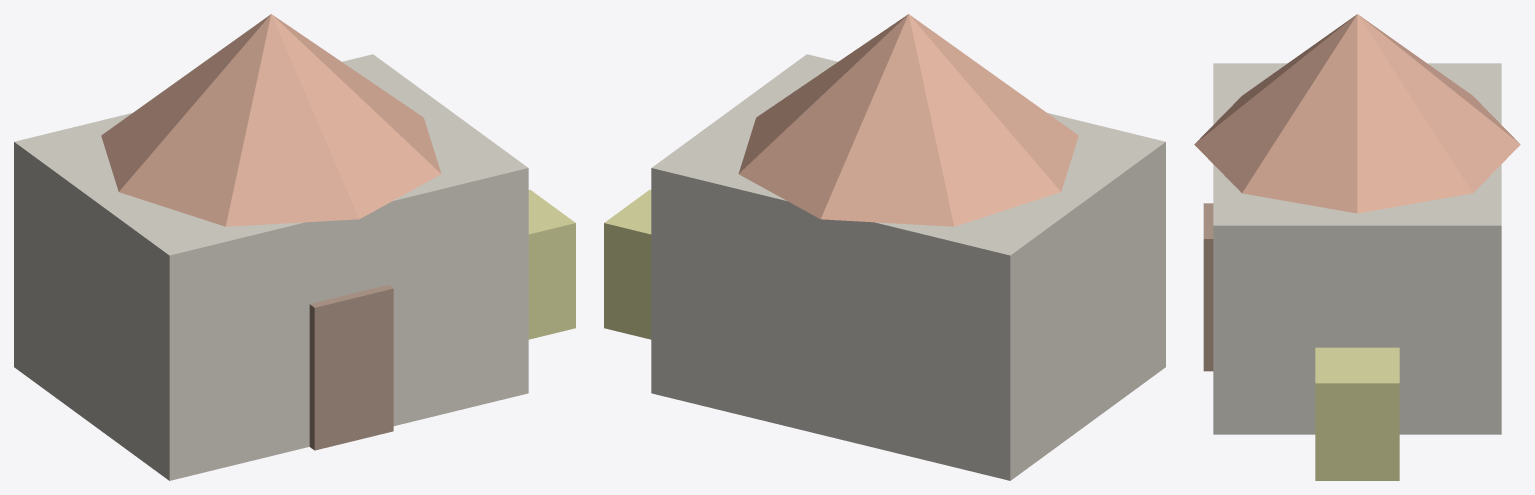
Rendered from farm-barn.glb.
3 views of the same model, side by side, from view 1: azimuth 30°, elevation 25°; view 2: azimuth 150°, elevation 25°; view 3: azimuth 270°, elevation 25° (orthographic). The views are drawn at different scales.
Parts seen in each view (by area): view 1: farm-barn; view 2: farm-barn; view 3: farm-barn.
Boxes of the visible parts, x1,y1,x2,y2 form: farm-barn: (14,14,575,480); farm-barn: (604,14,1165,480); farm-barn: (1194,14,1520,480).
Size of the model in its own units: 5.14 by 3.9 by 3.4.
